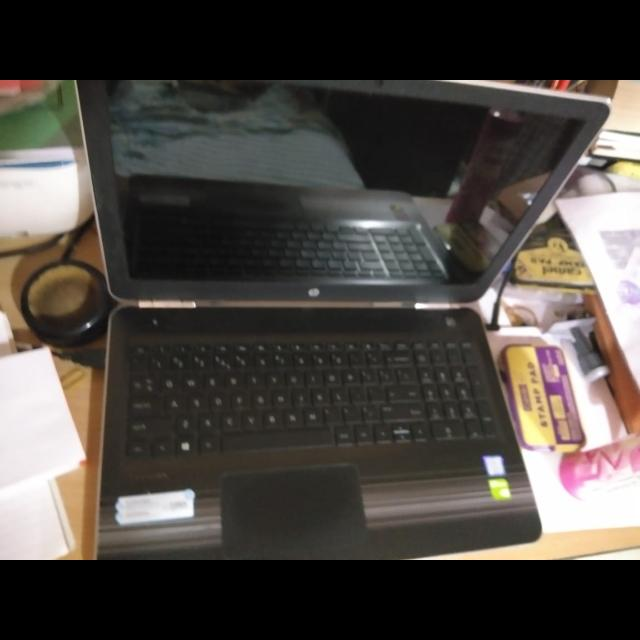Laptop: (66, 80, 616, 560)
